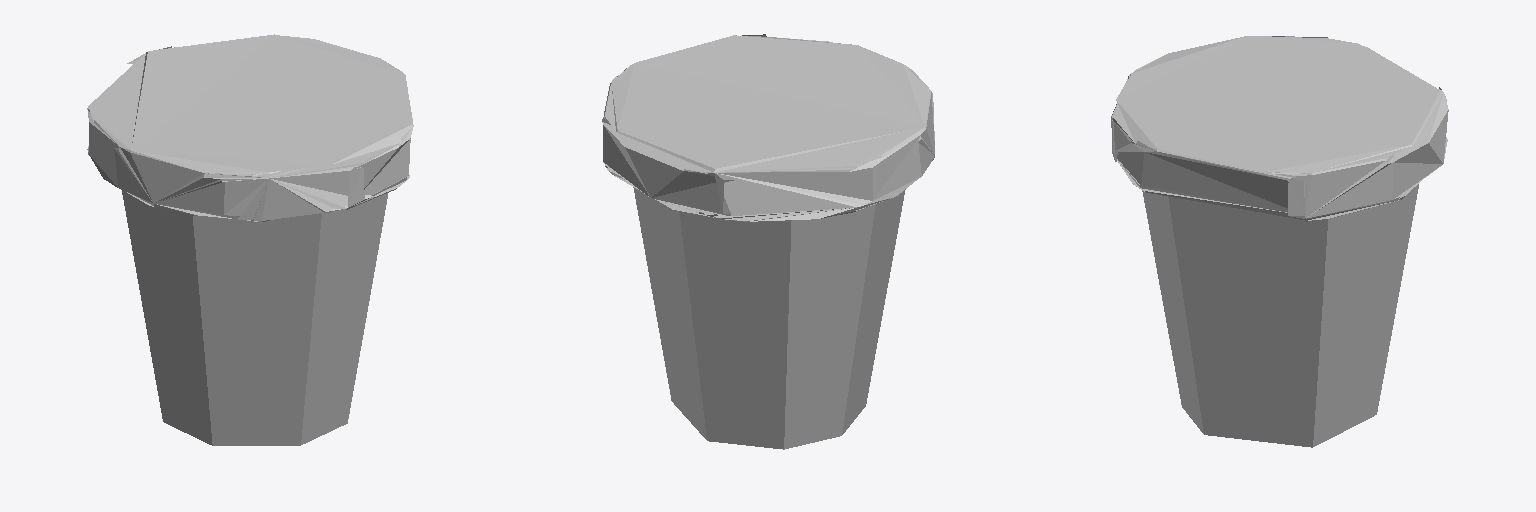
Rendered from topright_foot.obj.
3 renders of one model, left to right at view 1: azimuth 30°, elevation 25°; view 2: azimuth 150°, elevation 25°; view 3: azimuth 270°, elevation 25°, orthographic.
Visible parts, largest first — view 1: topright_foot_mesh9.004_mesh9-geometry; view 2: topright_foot_mesh9.004_mesh9-geometry; view 3: topright_foot_mesh9.004_mesh9-geometry.
Boxes of the visible parts, <box> form: topright_foot_mesh9.004_mesh9-geometry: <box>87,34,413,445</box>; topright_foot_mesh9.004_mesh9-geometry: <box>602,34,934,449</box>; topright_foot_mesh9.004_mesh9-geometry: <box>1111,36,1448,447</box>.
Size of the model in its own units: 0.0376 by 0.0376 by 0.0376.